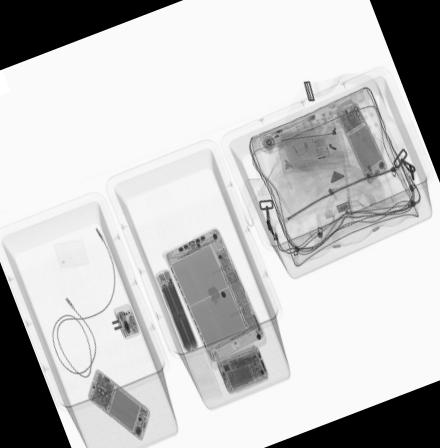Lighter: (257, 129, 281, 146)
